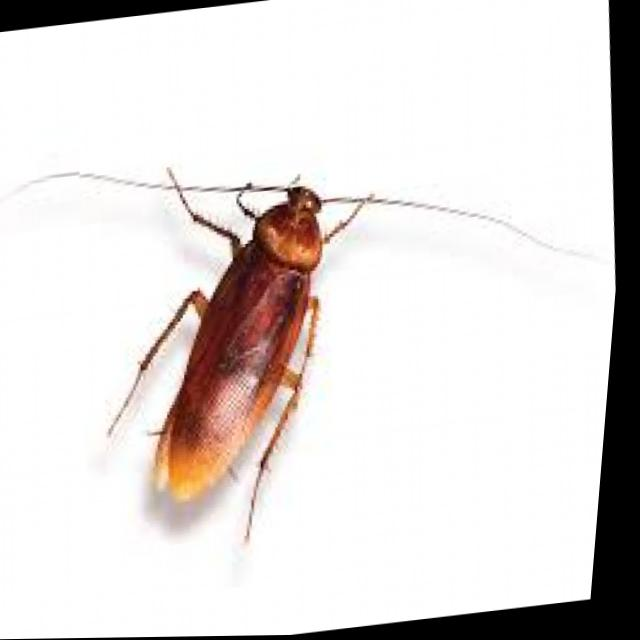Cockroach: (75, 132, 430, 567)
